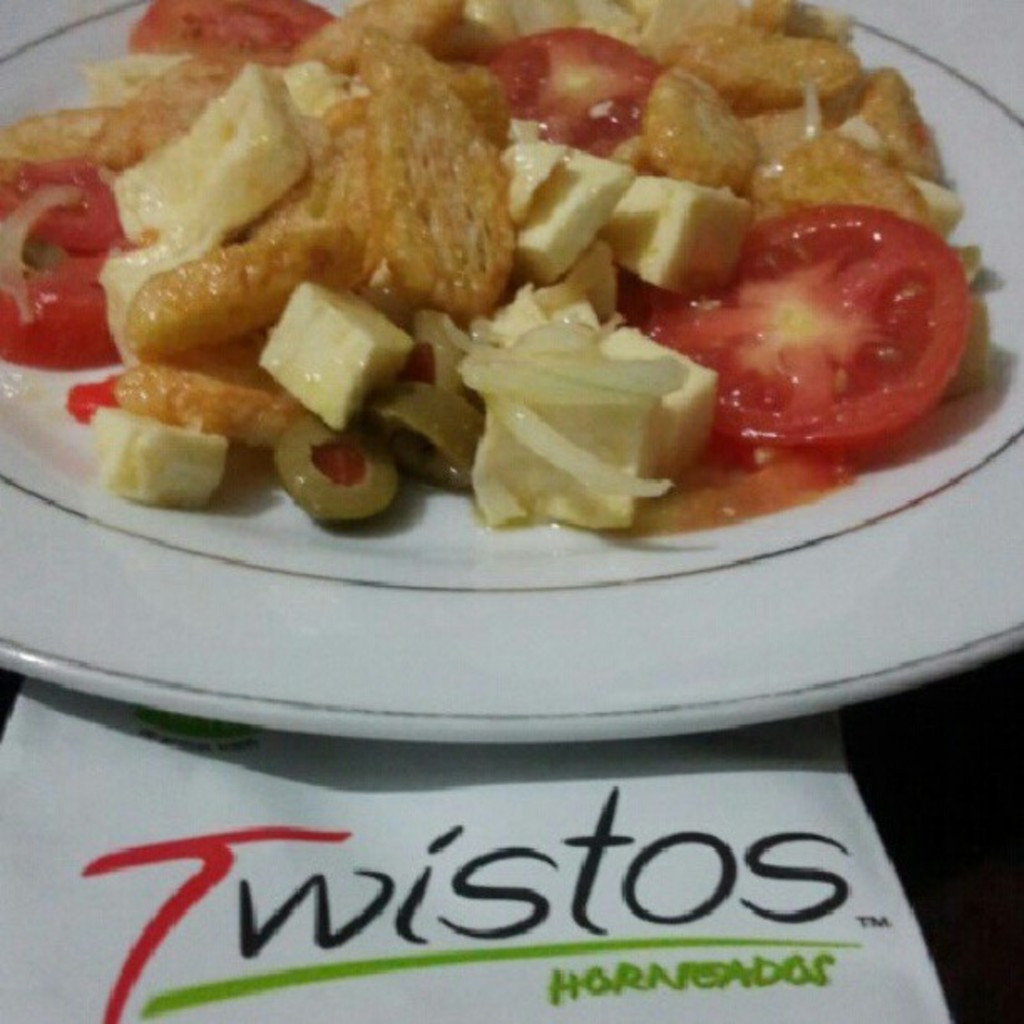salad: (0, 0, 1017, 571)
